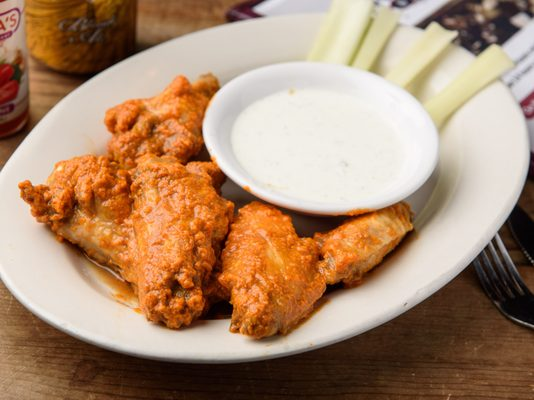pizza: (23, 0, 139, 76)
sushi: (202, 60, 440, 218)
